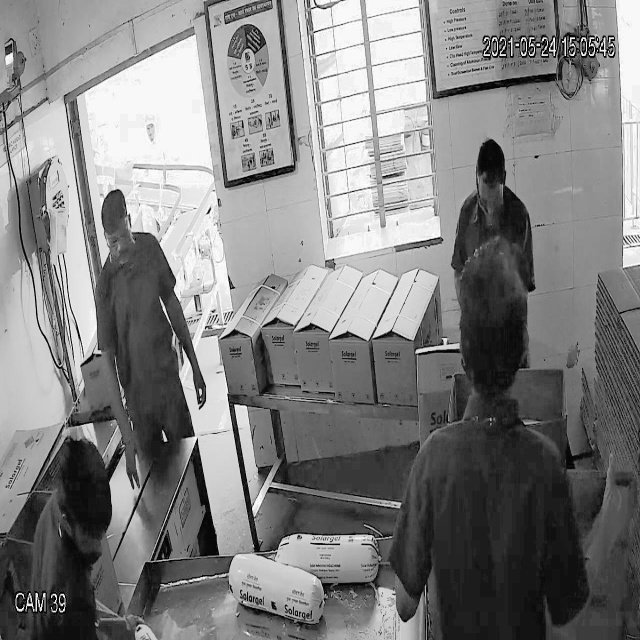Gafas: (103, 223, 134, 252)
